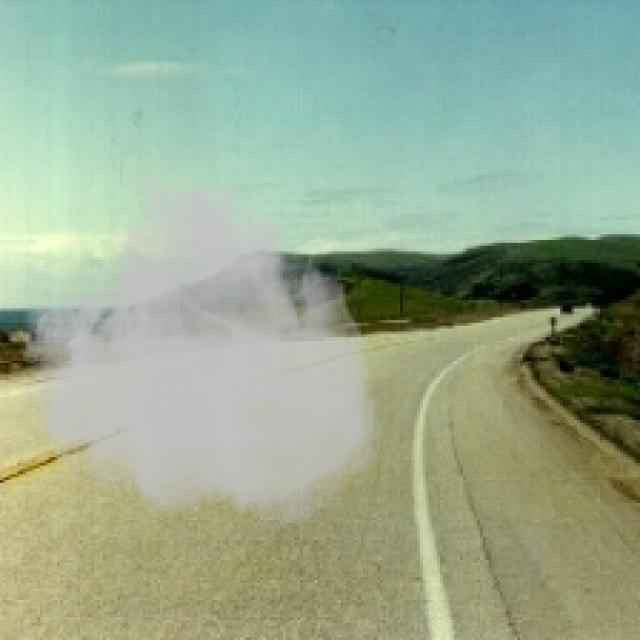smoke: (17, 163, 386, 534)
